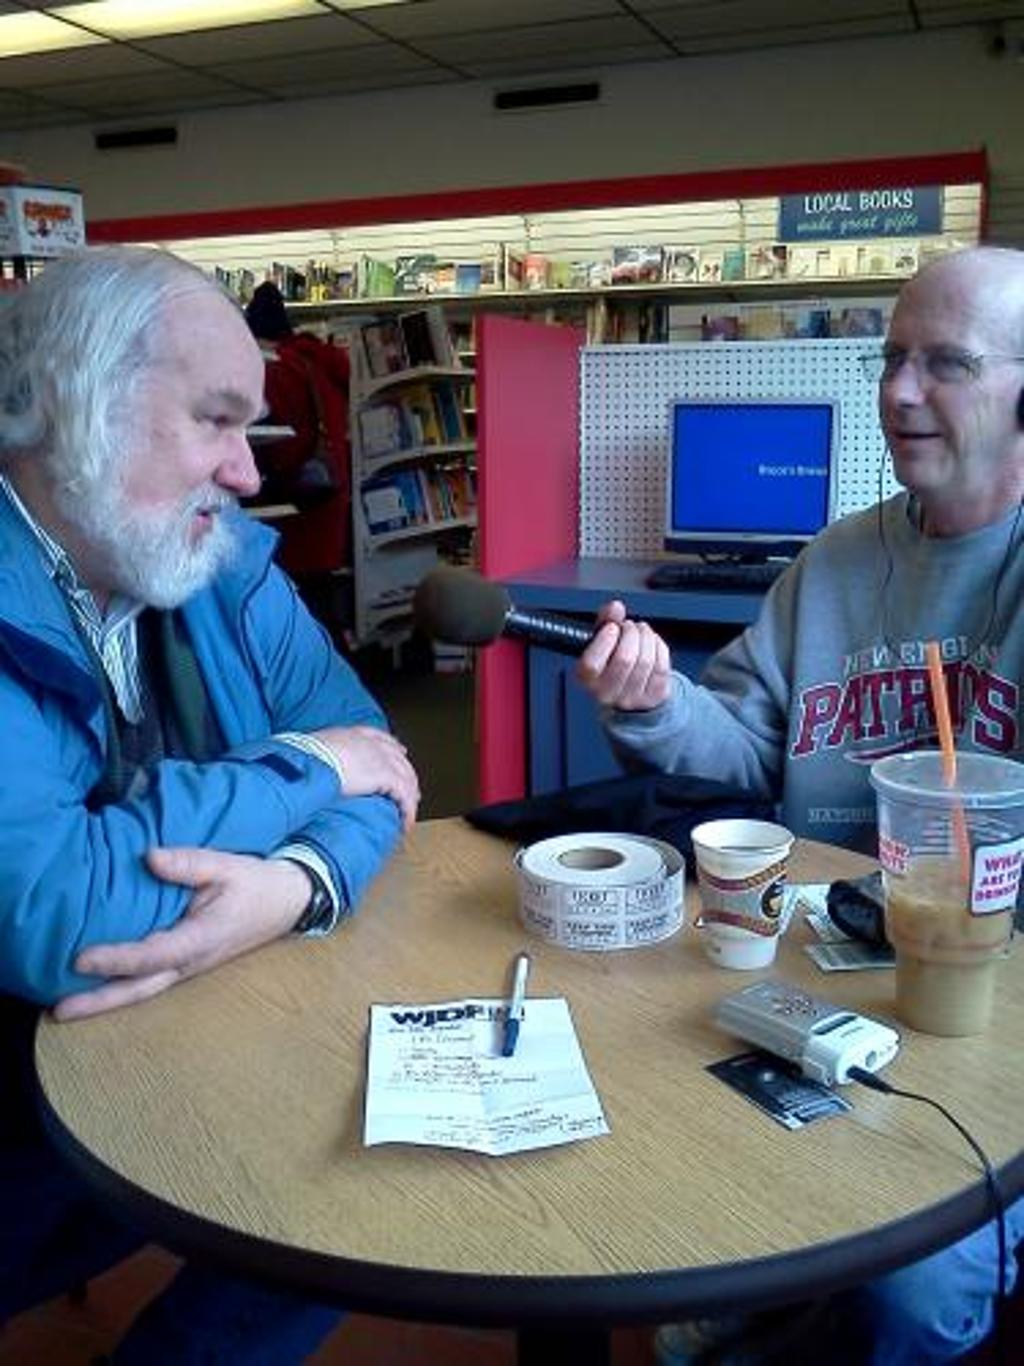face: (69, 299, 266, 579), (880, 256, 1008, 517)
